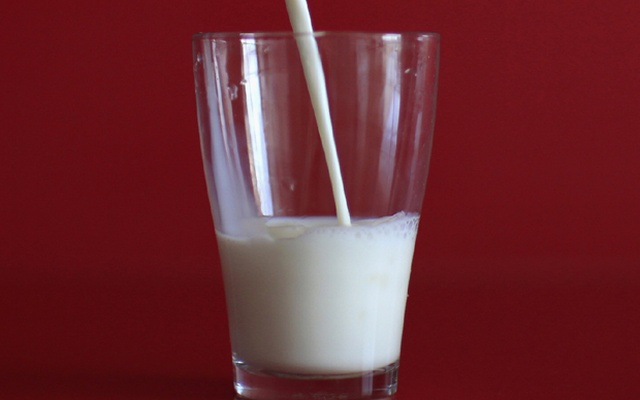glass of milk: (195, 25, 423, 394)
